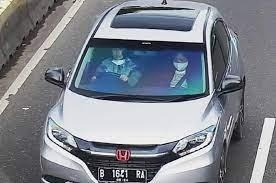plate: (100, 167, 148, 183)
